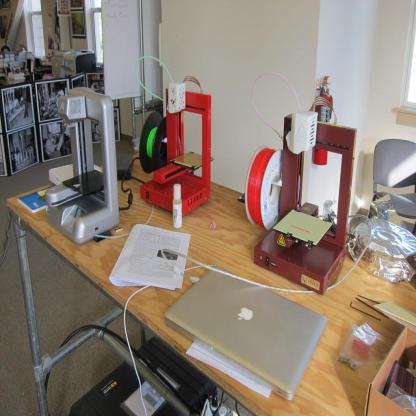board: (169, 262, 332, 402), (172, 181, 184, 229)
